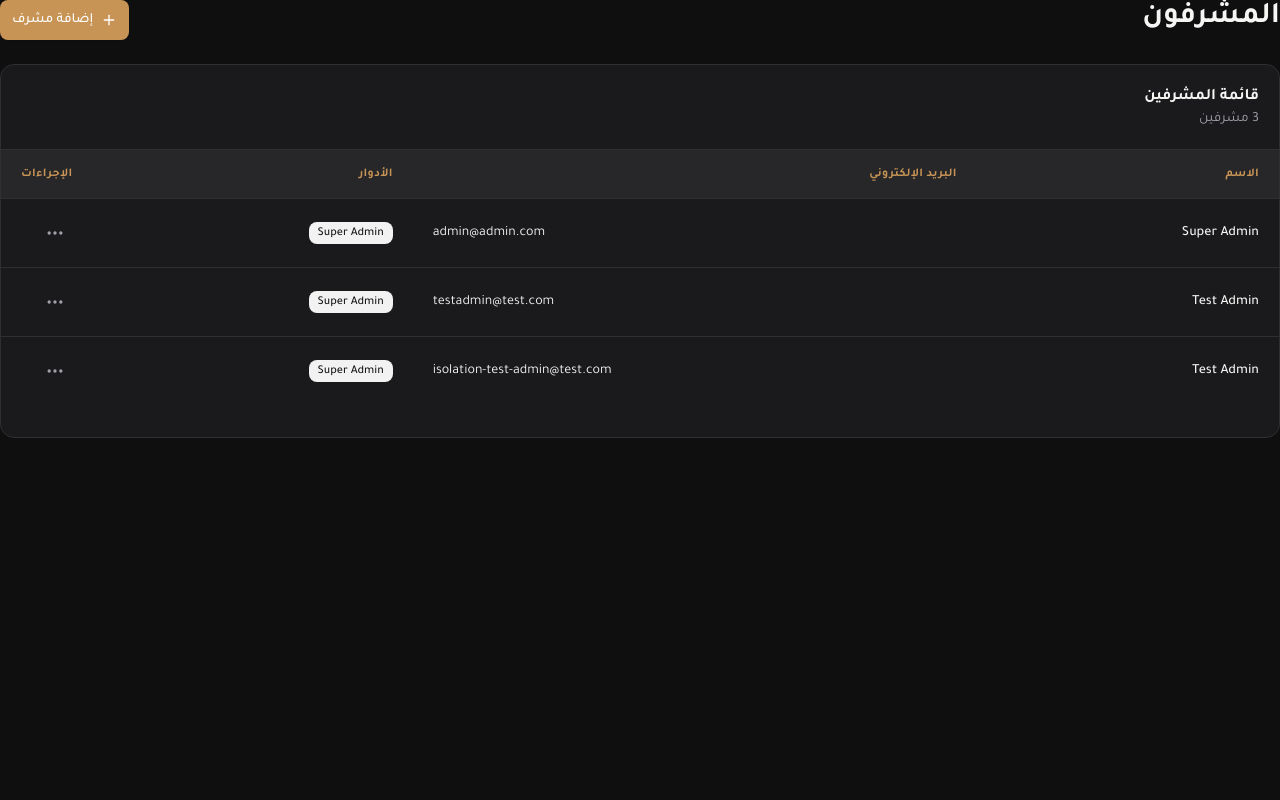
Test: AdminsPage › keeps email and role selection usable in Arabic RTL
Click the button "إضافة مشرف" at (65, 20), box [0, 0, 129, 40]
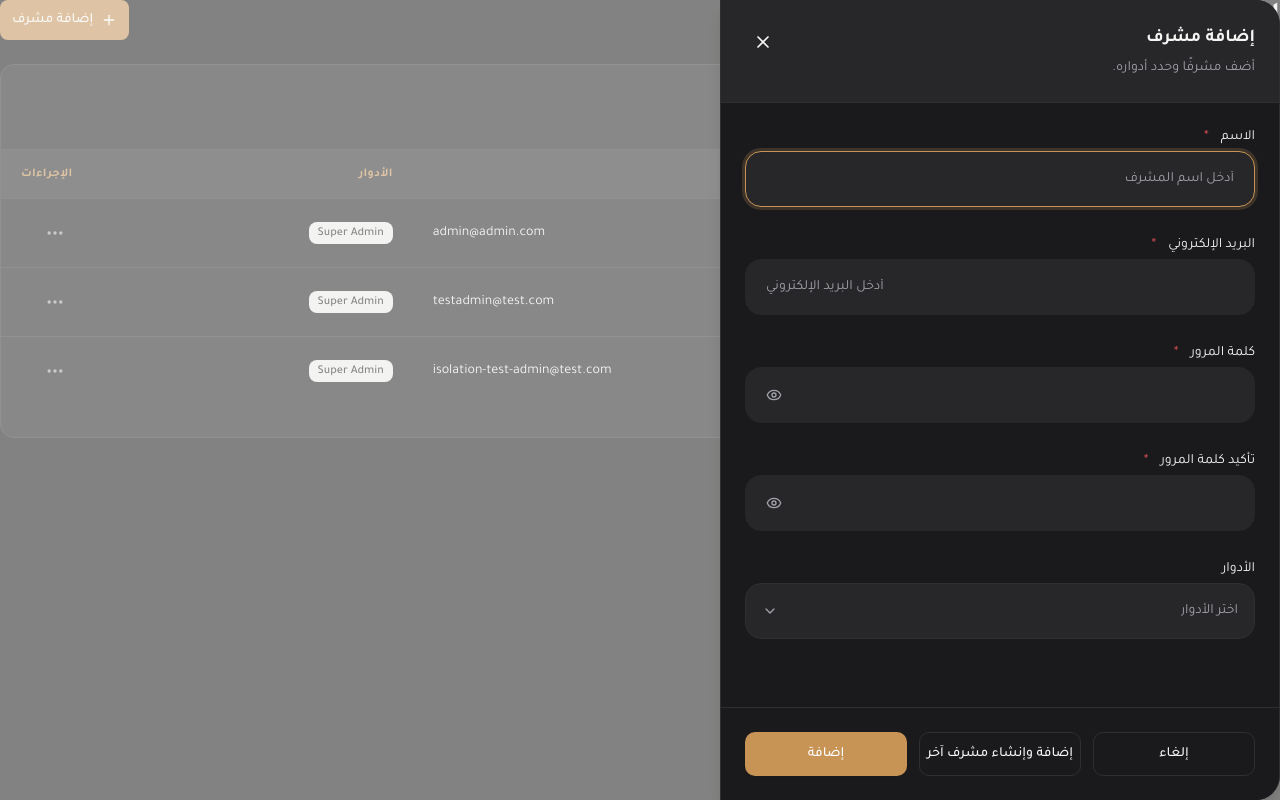
Click the button "اختر الأدوار" at (1209, 611), box [745, 583, 1255, 639]
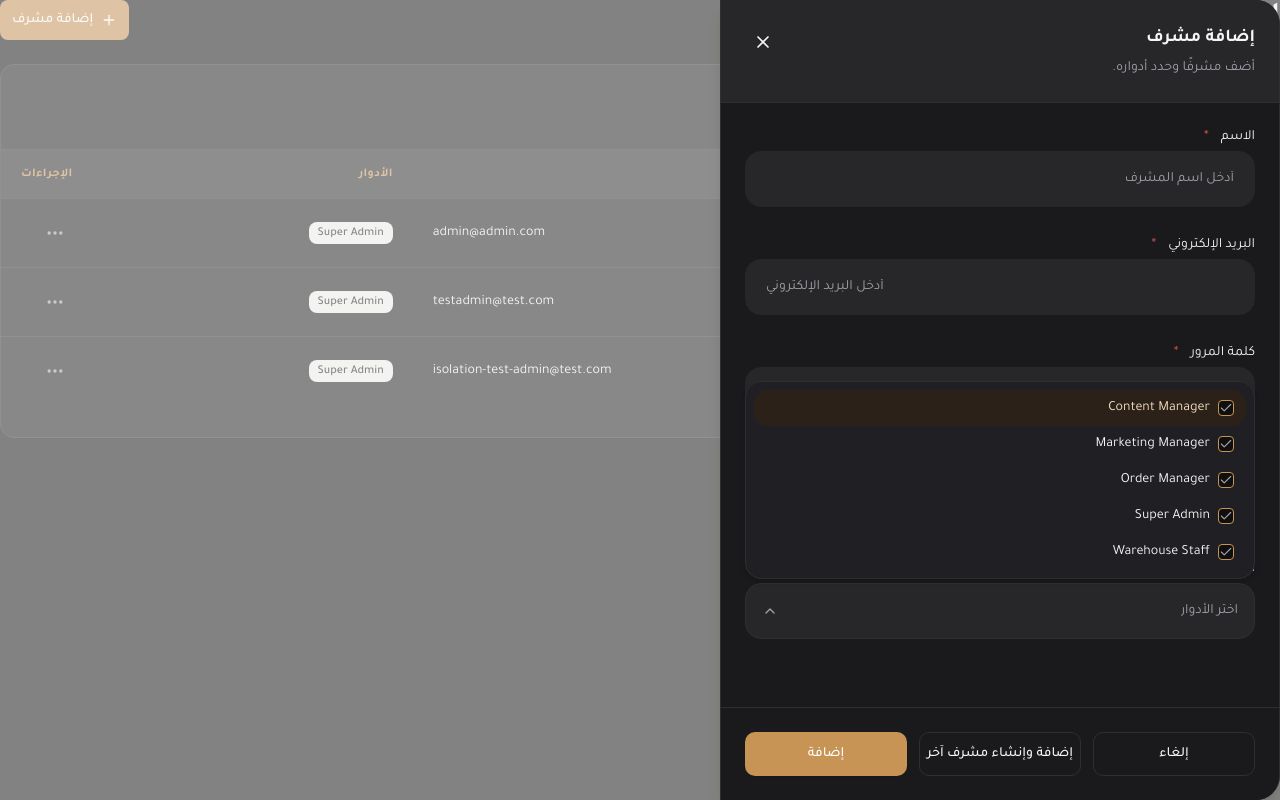
Click the option "Super Admin" at (1184, 516), box [1135, 508, 1234, 524]
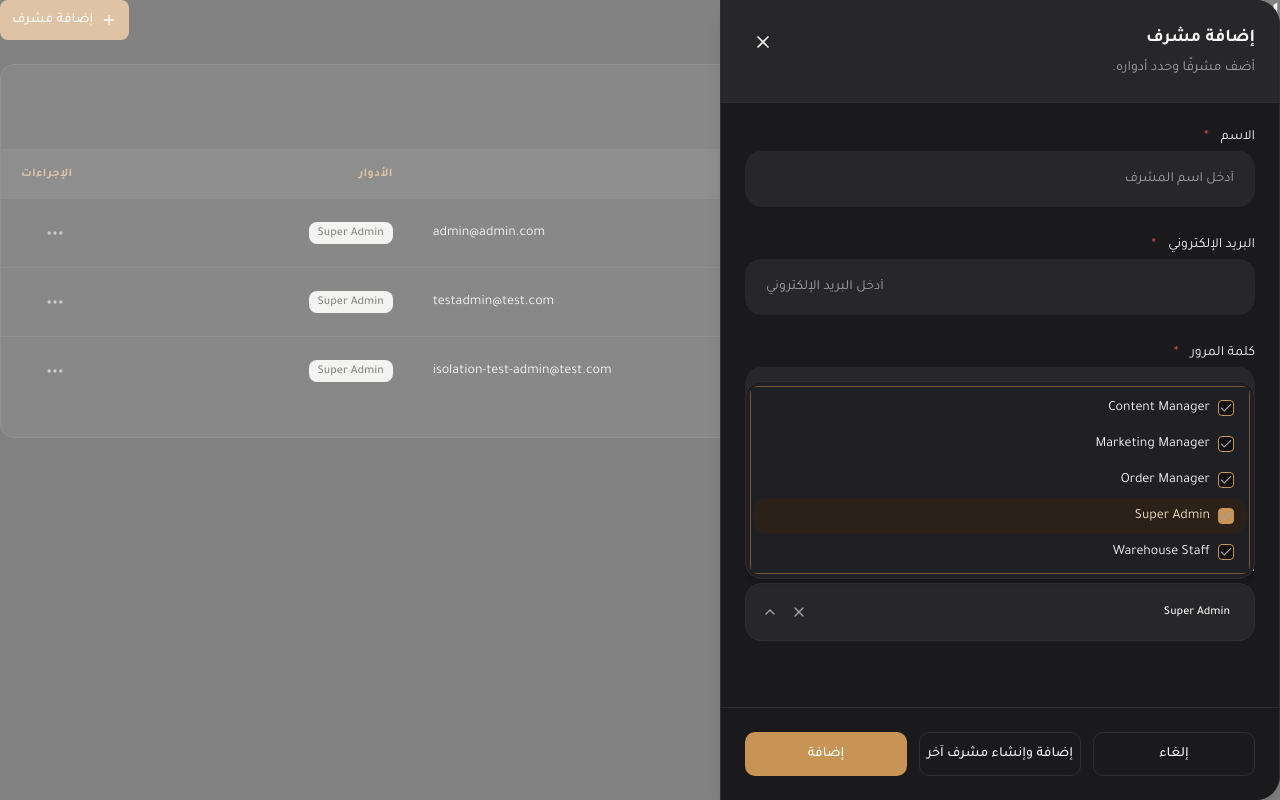
Expected: the button named "الأدوار" reads "Super Admin", [745, 583, 1255, 641]
